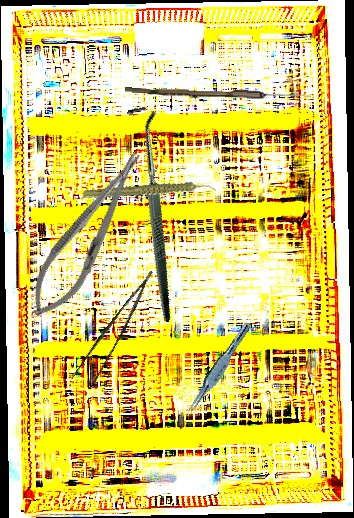Handpiece: (81, 162, 218, 222)
Hook Surgical: (60, 102, 240, 323)
Needle Holder: (17, 142, 158, 328)
Surgical Spoon: (124, 87, 312, 100)
Tissue Forceps: (66, 270, 171, 394), (183, 318, 253, 420)
